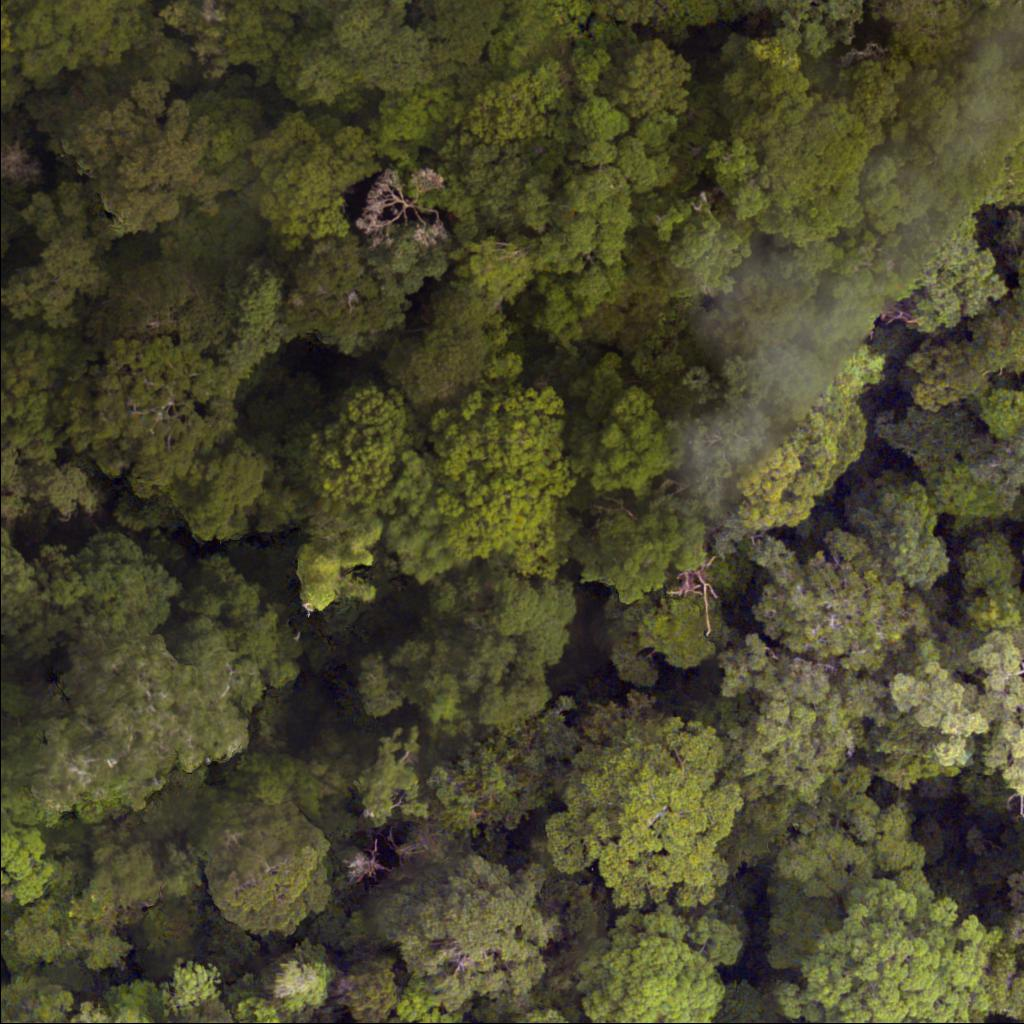crown: (32, 619, 257, 815), (544, 717, 742, 909), (730, 770, 921, 968), (372, 828, 567, 1017), (777, 880, 1013, 1023), (690, 344, 871, 529), (56, 61, 232, 235), (429, 378, 572, 573), (734, 42, 866, 249), (67, 336, 237, 496), (717, 629, 868, 798), (889, 623, 1023, 800), (192, 799, 335, 945), (570, 911, 735, 1023), (18, 527, 154, 659), (0, 182, 116, 328), (561, 354, 670, 497), (0, 855, 129, 975), (66, 258, 236, 348), (384, 313, 506, 426), (284, 234, 397, 349), (362, 632, 489, 734), (578, 500, 691, 612), (310, 391, 409, 515), (652, 191, 752, 300), (619, 594, 731, 685), (168, 438, 265, 543), (751, 0, 885, 72), (160, 198, 268, 286), (348, 731, 426, 840), (261, 157, 349, 246), (0, 440, 96, 520), (360, 165, 449, 251), (875, 403, 991, 467), (87, 826, 166, 910), (0, 802, 56, 907), (427, 0, 511, 69), (0, 525, 44, 641), (962, 434, 1023, 505), (955, 531, 1023, 590), (395, 975, 475, 1023), (428, 279, 492, 339), (0, 977, 72, 1023), (74, 981, 152, 1023), (976, 386, 1023, 442), (968, 587, 1023, 629), (168, 991, 235, 1023), (0, 142, 41, 185), (0, 0, 13, 74), (517, 1012, 571, 1023), (1015, 257, 1023, 300), (0, 955, 7, 991), (1021, 551, 1023, 561)
